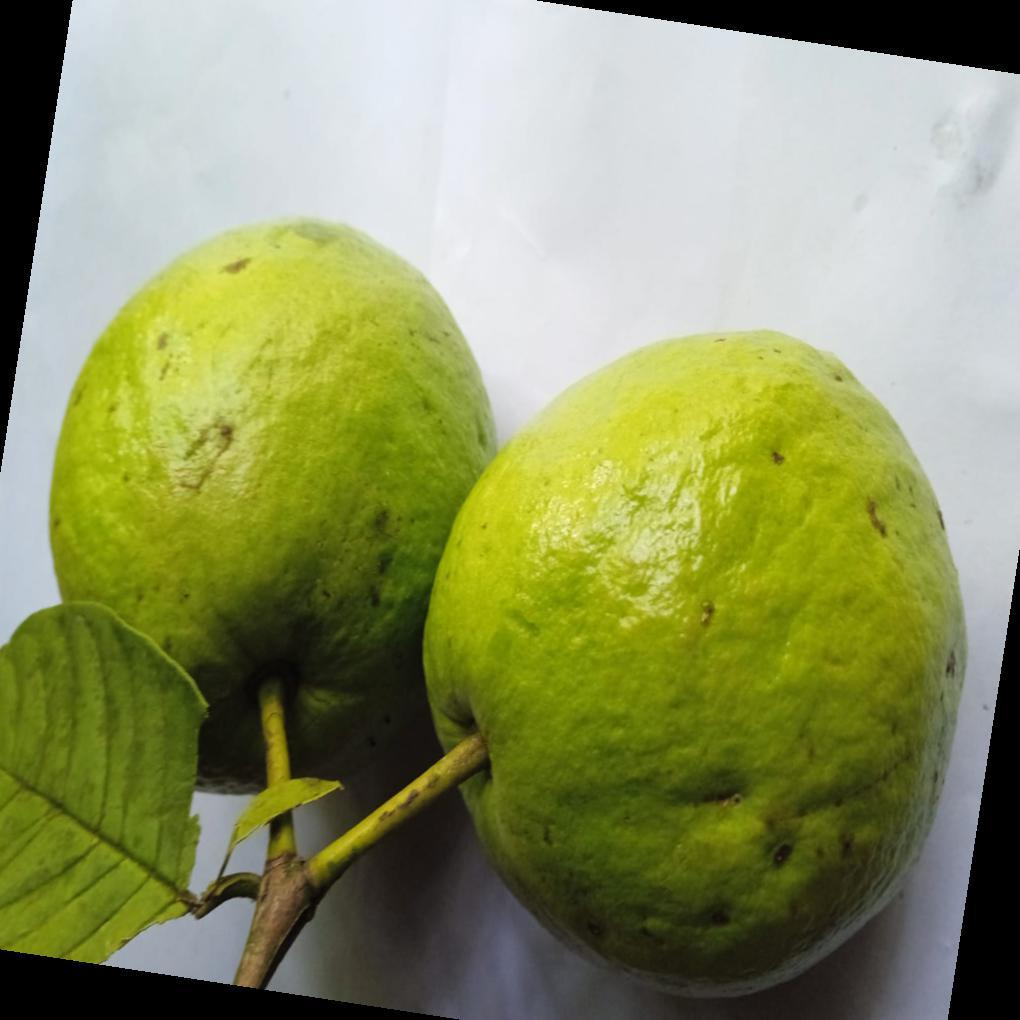FreshGuava: (45, 216, 966, 1003)
